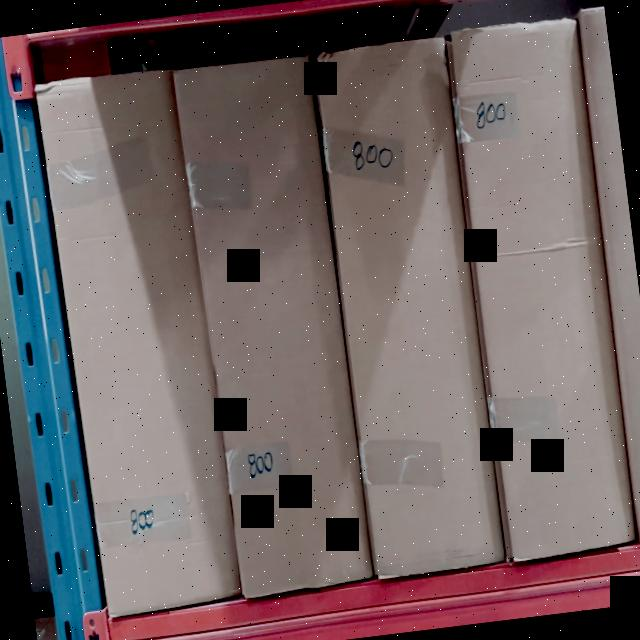box: (36, 64, 241, 608), (315, 35, 506, 574), (449, 18, 637, 560), (180, 60, 371, 593)
